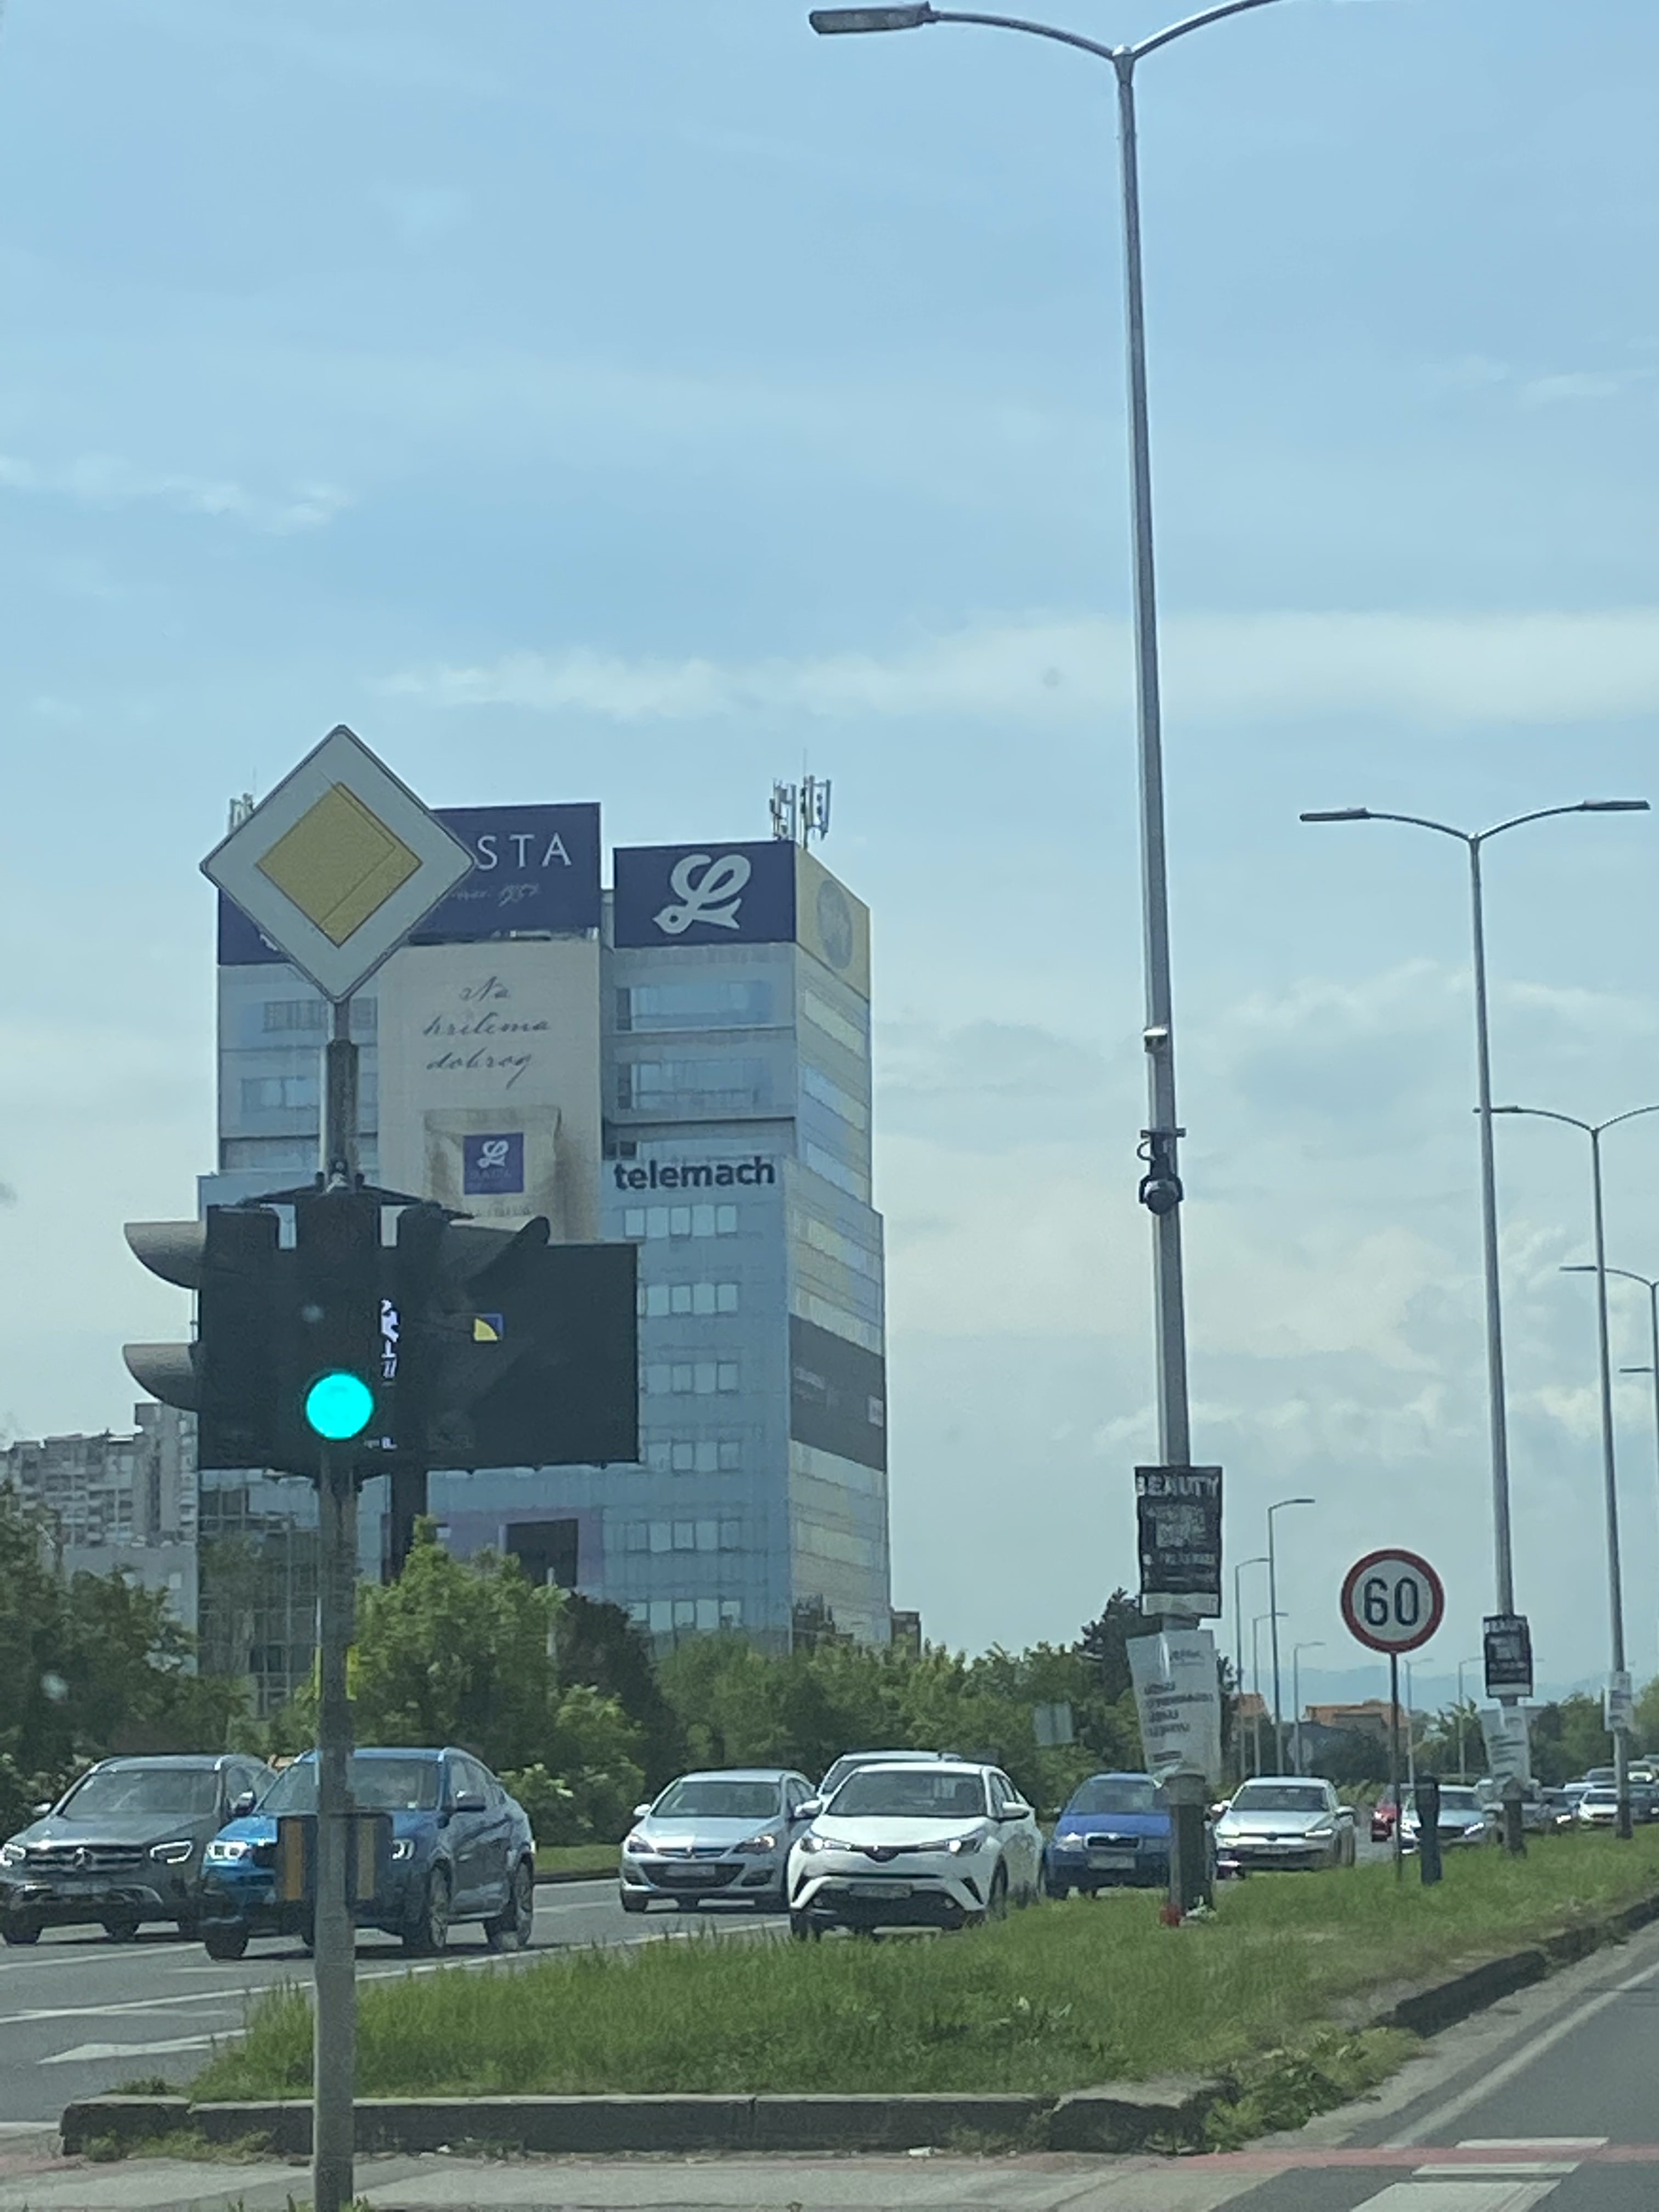Cesta s prednošću prolaska: (199, 725, 477, 1005)
Ograničenje brzine 60: (1340, 1548, 1445, 1653)
